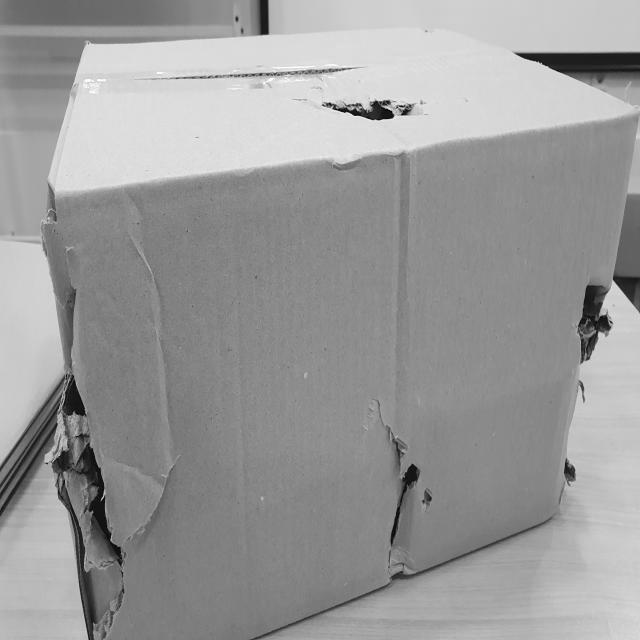hole: (58, 356, 140, 618), (379, 440, 442, 544), (309, 90, 409, 126), (572, 276, 610, 366)
